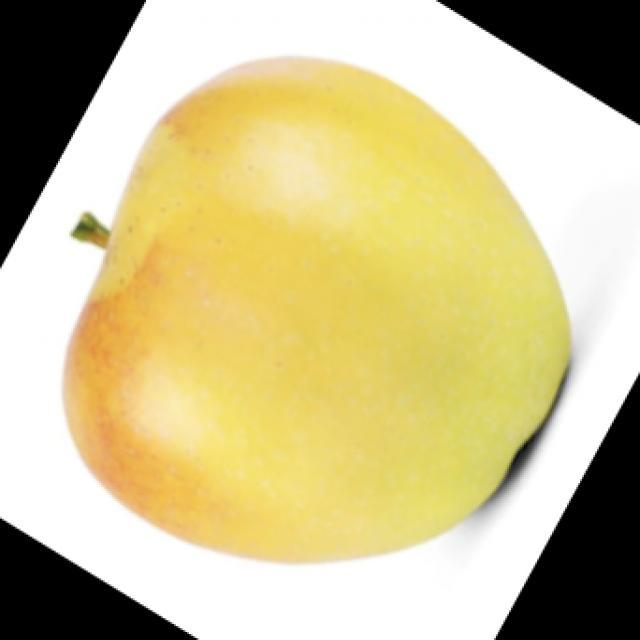Fresh Apple: (68, 56, 578, 562)
